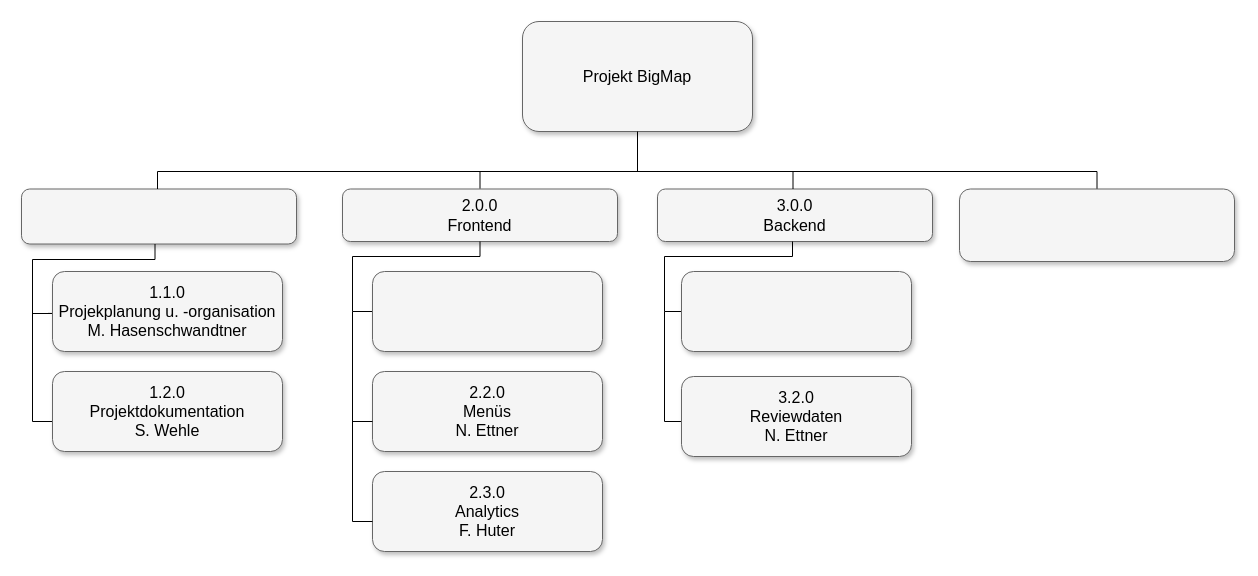
The diagram is 1258 pixels wide and 576 high, and some of its shapes have lost their labels. Each missing label, with the centre of its shape:
"1.0.0 Projektmanagement" goes at (x=159, y=217).
"2.1.0 Karte K. Birkhoven" goes at (x=488, y=312).
"3.1.0 Tiling-Algorithmus K. Birkhoven" goes at (x=797, y=312).
"4.0.0 Feedback u. Bugfixing F. Huter" goes at (x=1097, y=226).
